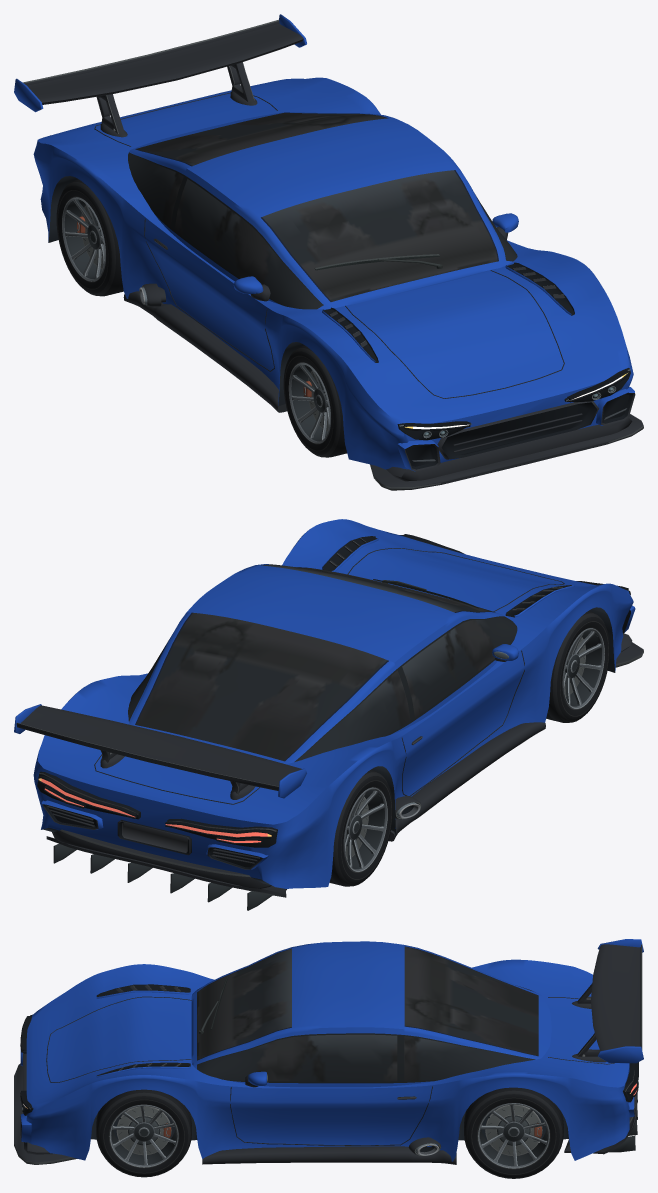
The picture shows the model from 3 angles, top to bottom: view 1: azimuth 30°, elevation 25°; view 2: azimuth 150°, elevation 25°; view 3: azimuth 270°, elevation 25°; orthographic projection. The views are drawn at different scales.
Visible parts, largest first — view 1: body, wheelRR, wheelFR; view 2: body, wheelRR, wheelFR, lampRear; view 3: body, wheelRL, wheelFL.
Part boxes in pixels (left/top/right/bottom): body: left=14, top=14, right=643, bottom=490; wheelRR: left=56, top=179, right=123, bottom=296; wheelFR: left=283, top=345, right=346, bottom=457; body: left=14, top=519, right=643, bottom=910; wheelRR: left=329, top=769, right=392, bottom=886; wheelFR: left=546, top=611, right=609, bottom=722; lampRear: left=38, top=778, right=271, bottom=842; body: left=14, top=939, right=643, bottom=1164; wheelRL: left=464, top=1087, right=563, bottom=1178; wheelFL: left=96, top=1089, right=191, bottom=1177.
Size of the model in its own units: 2.02 by 1.17 by 4.6.
